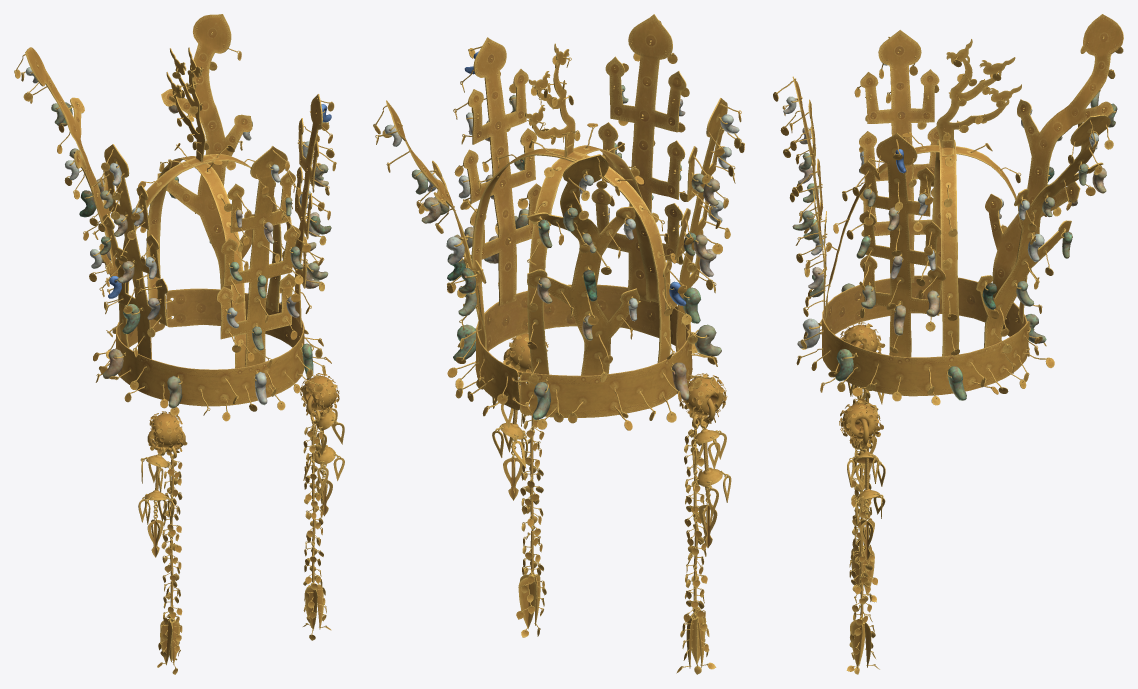
Rendered from gold_crown_from_the_seobong_tomb.glb.
3 views of the same model, side by side, from view 1: azimuth 30°, elevation 25°; view 2: azimuth 150°, elevation 25°; view 3: azimuth 270°, elevation 25° (orthographic). The views are drawn at different scales.
Visible parts, largest first — view 1: SM_ShillaCrown_06_Lowpoly; view 2: SM_ShillaCrown_06_Lowpoly; view 3: SM_ShillaCrown_06_Lowpoly.
Boxes of the visible parts, box(x1,y1,x2,y2) form: SM_ShillaCrown_06_Lowpoly: box(14, 14, 344, 674); SM_ShillaCrown_06_Lowpoly: box(373, 14, 744, 674); SM_ShillaCrown_06_Lowpoly: box(773, 14, 1123, 674).
Size of the model in its own units: 0.2167 by 0.5016 by 0.2655.
Materials: 1 (1 with a texture image).
